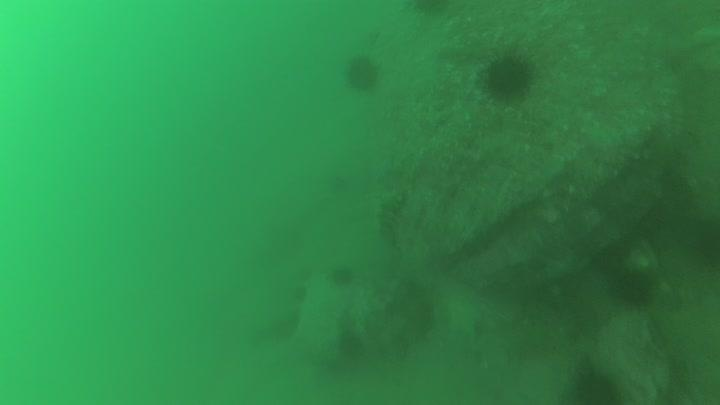echinus: (479, 48, 538, 104), (609, 265, 658, 309), (568, 365, 623, 404), (341, 52, 383, 95), (326, 263, 357, 290)
holothurian: (374, 187, 410, 251)
